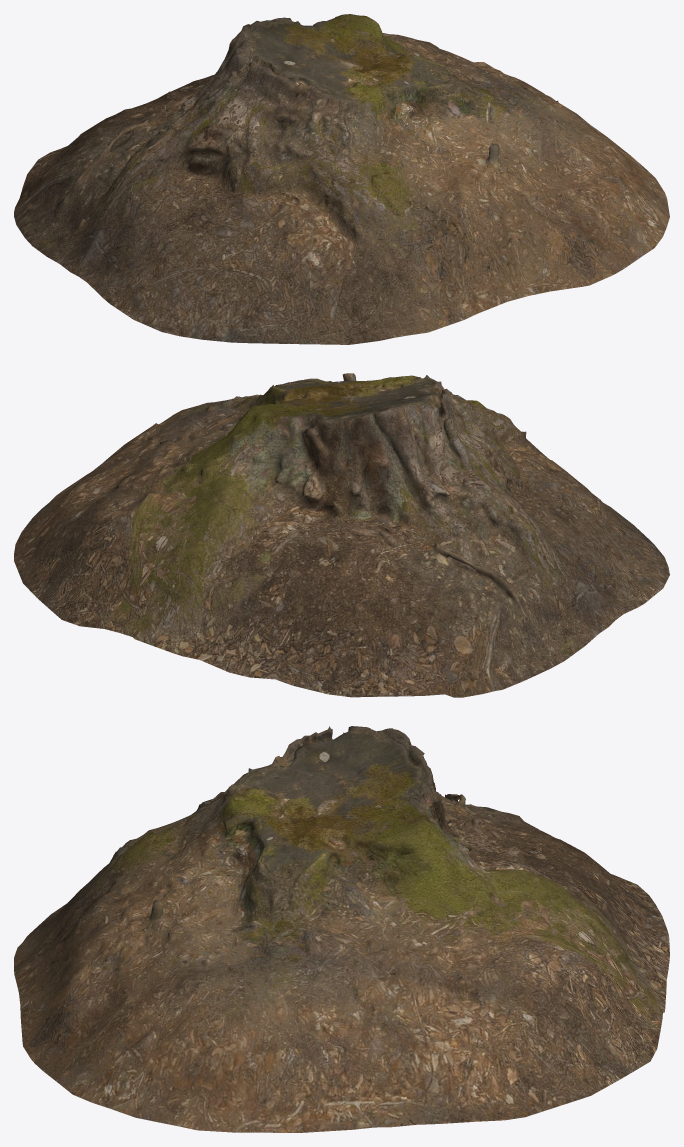
The picture shows the model from 3 angles, top to bottom: view 1: azimuth 30°, elevation 25°; view 2: azimuth 150°, elevation 25°; view 3: azimuth 270°, elevation 25°; orthographic projection. The views are drawn at different scales.
Parts seen in each view (by area): view 1: tree_stump_02_lod0; view 2: tree_stump_02_lod0; view 3: tree_stump_02_lod0.
Part boxes in pixels (x1=…): tree_stump_02_lod0: x1=14, y1=14, x2=669, y2=344; tree_stump_02_lod0: x1=14, y1=373, x2=669, y2=697; tree_stump_02_lod0: x1=14, y1=726, x2=669, y2=1132.
Bounding box in the file's own units: 1.52 × 0.522 × 1.39.
1 material, 1 textured.
